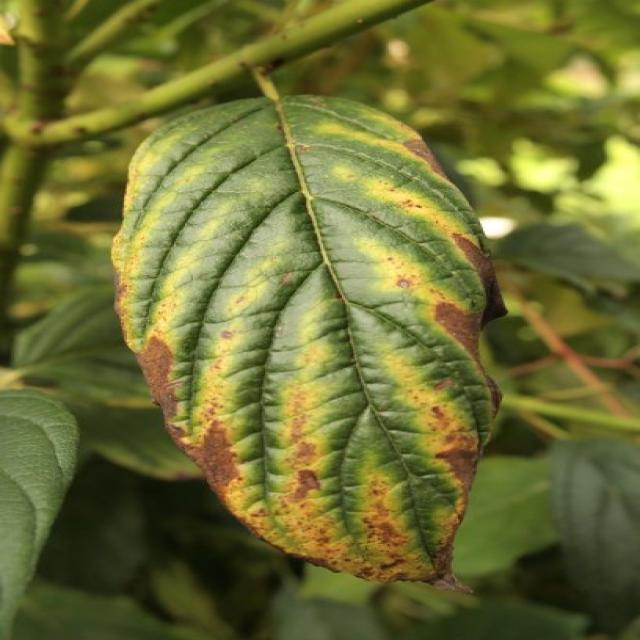Chlorosis: (129, 87, 495, 565)
